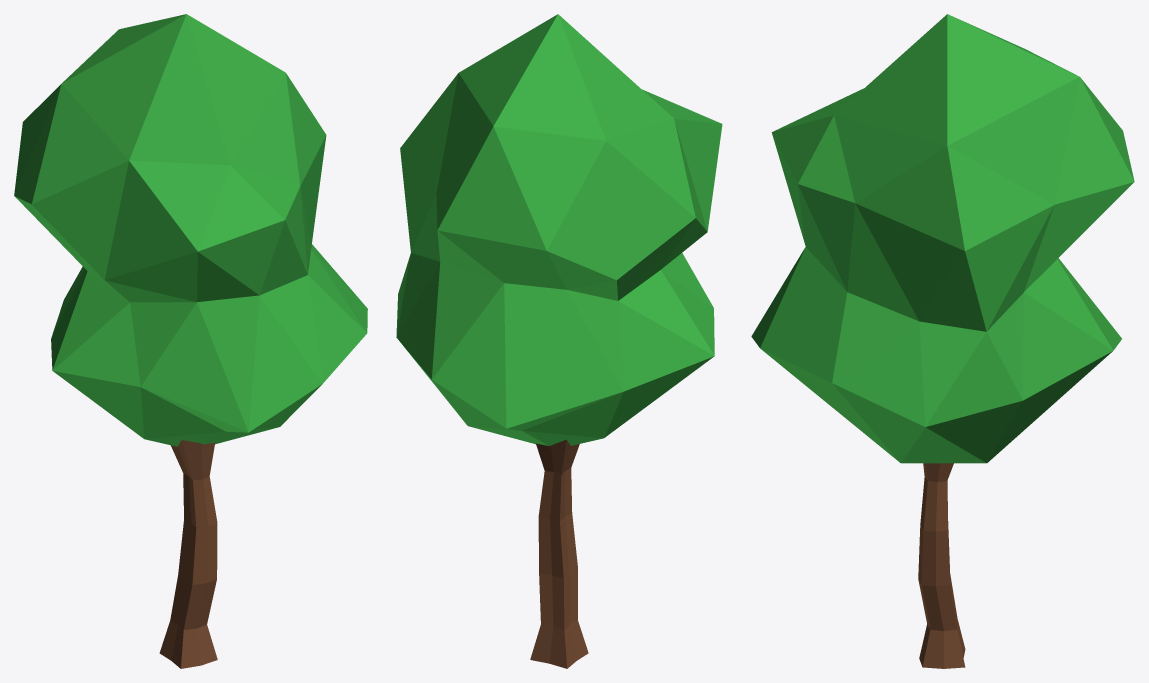
File: Tree_42_Green.fbx
3 views of the same model, side by side, from view 1: azimuth 30°, elevation 25°; view 2: azimuth 150°, elevation 25°; view 3: azimuth 270°, elevation 25° (orthographic).
Parts seen in each view (by area): view 1: Tree_42_Green_Part_1, Tree_42_Green_Part_2; view 2: Tree_42_Green_Part_1, Tree_42_Green_Part_2; view 3: Tree_42_Green_Part_1, Tree_42_Green_Part_2.
Boxes of the visible parts, x1,y1,x2,y2 form: Tree_42_Green_Part_1: [14, 14, 367, 446]; Tree_42_Green_Part_2: [159, 440, 217, 668]; Tree_42_Green_Part_1: [396, 14, 722, 445]; Tree_42_Green_Part_2: [530, 439, 588, 668]; Tree_42_Green_Part_1: [751, 14, 1134, 463]; Tree_42_Green_Part_2: [918, 463, 965, 668].
Bounding box in the file's own units: 411 × 797 × 430.
